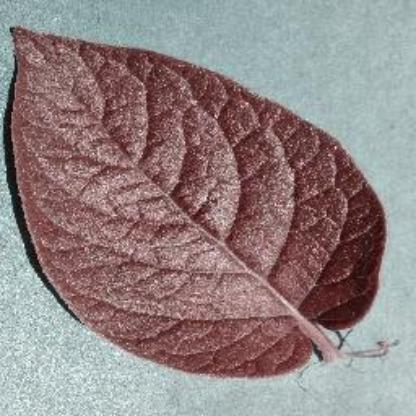Healthy-plant: (13, 18, 385, 394)
